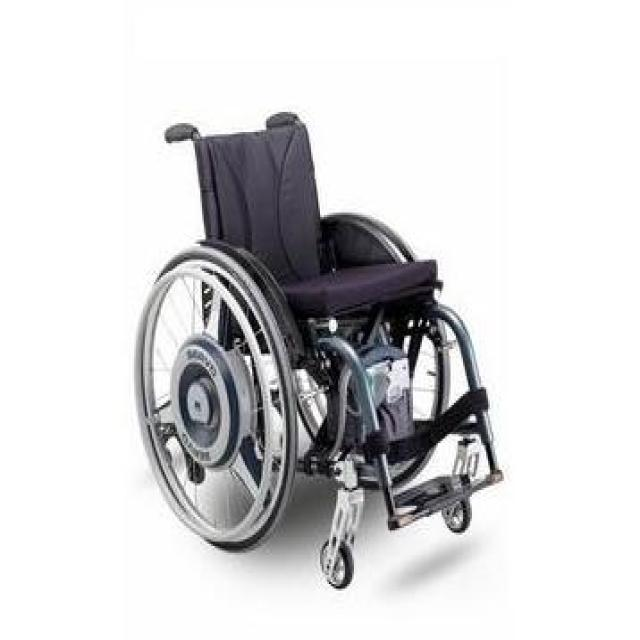wheelchairs: (123, 88, 513, 598)
